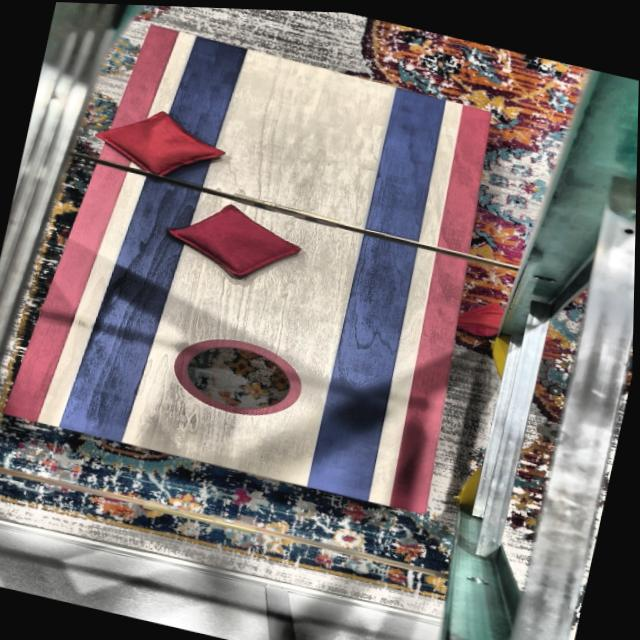board: (63, 28, 492, 506)
hole: (166, 324, 310, 424)
red-bean-bag: (162, 189, 311, 288), (87, 96, 234, 192), (456, 288, 509, 336)
